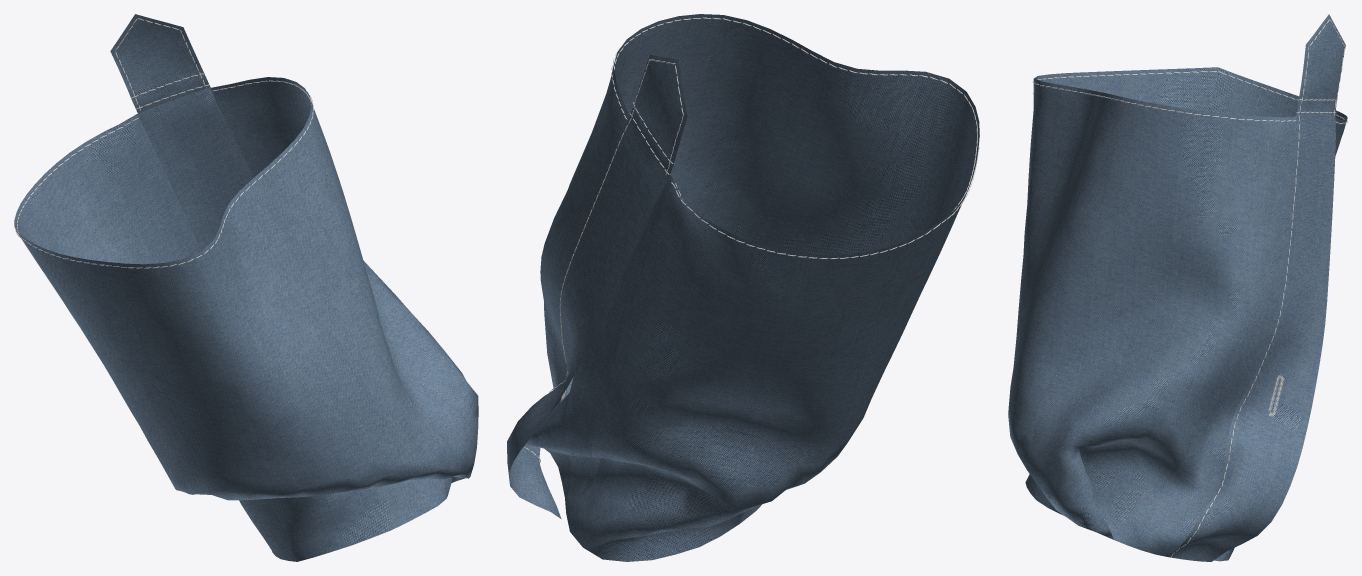
Rendered from sz2zuoxiuxq.glb.
3 views of the same model, side by side, from view 1: azimuth 30°, elevation 25°; view 2: azimuth 150°, elevation 25°; view 3: azimuth 270°, elevation 25° (orthographic). The views are drawn at different scales.
Visible parts, largest first — view 1: sz2zuoxiuxq, _2; view 2: sz2zuoxiuxq, _2; view 3: sz2zuoxiuxq, _2.
Part boxes in pixels (bbox=[...]): sz2zuoxiuxq: bbox=[14, 14, 478, 561]; _2: bbox=[15, 18, 313, 268]; sz2zuoxiuxq: bbox=[507, 14, 979, 561]; _2: bbox=[524, 17, 979, 462]; sz2zuoxiuxq: bbox=[1008, 14, 1347, 561]; _2: bbox=[1033, 19, 1347, 557].
Bounding box in the file's own units: 1.68 × 2.08 × 1.31.
3 materials, 3 textured.
